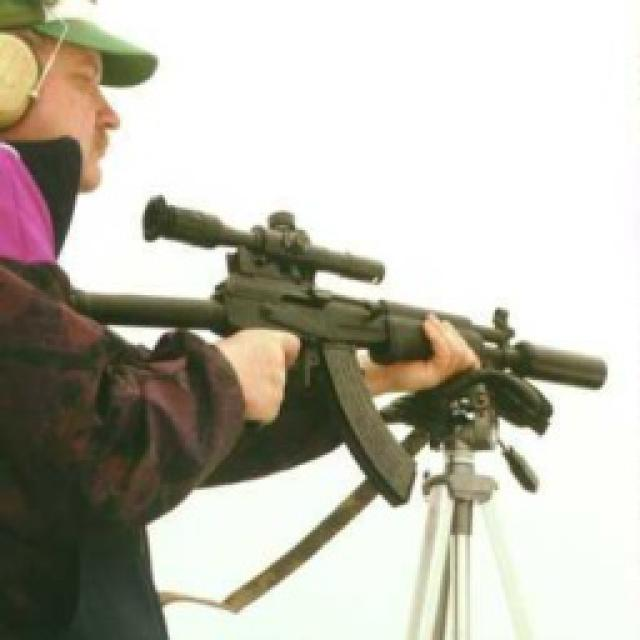long weapon: (102, 223, 611, 474)
